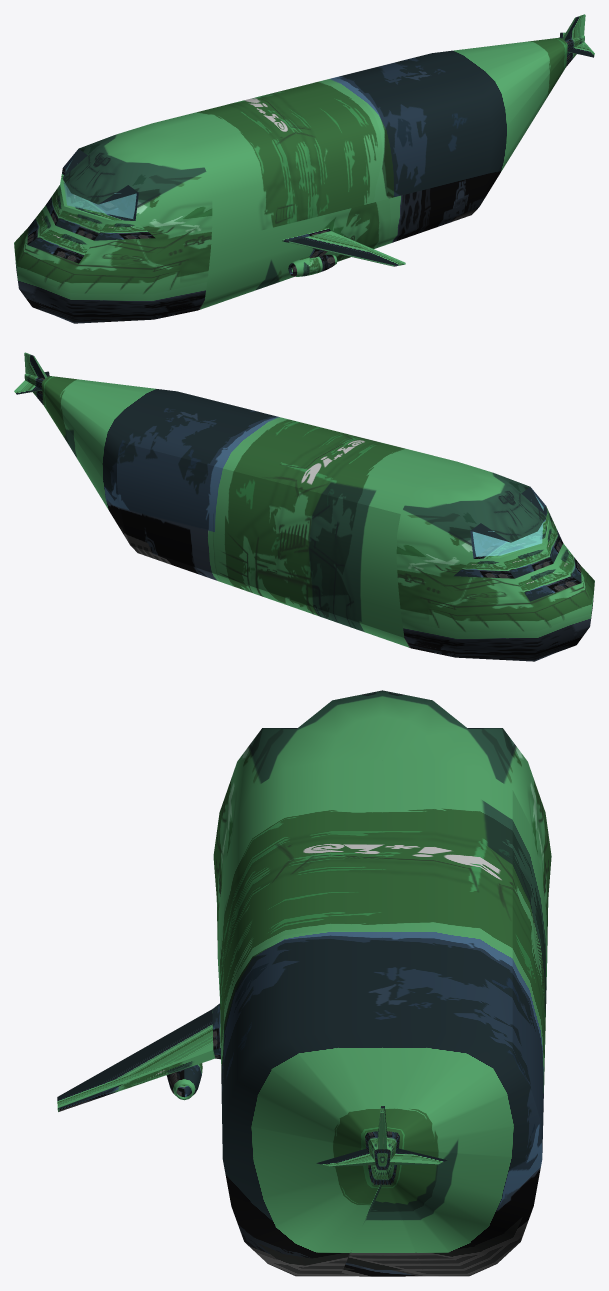
Rendered from B52 plane_Level.fbx.
The picture shows the model from 3 angles, top to bottom: view 1: azimuth 30°, elevation 25°; view 2: azimuth 150°, elevation 25°; view 3: azimuth 270°, elevation 25°; orthographic projection. The views are drawn at different scales.
Parts seen in each view (by area): view 1: plane_body, wing, windShield, turbine; view 2: plane_body, plane_front, windShield; view 3: plane_body, plane_front, wing, turbine.
Part boxes in pixels (x1,y1,x2,y2): plane_body: (14, 14, 594, 323); wing: (282, 227, 405, 266); windShield: (64, 159, 136, 218); turbine: (288, 254, 337, 276); plane_body: (14, 352, 594, 661); plane_front: (117, 442, 404, 637); windShield: (472, 495, 543, 556); plane_body: (213, 690, 551, 1276); plane_front: (512, 790, 547, 1154); wing: (57, 1003, 220, 1111); turbine: (166, 1063, 202, 1100).
Size of the model in its own units: 327 by 97.17 by 123.
